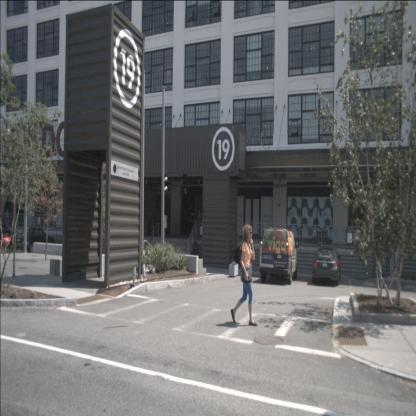human-pedestrian-adult: (230, 224, 258, 326), (164, 209, 169, 238)
vehicle-car: (260, 227, 298, 284), (312, 246, 341, 285), (17, 227, 53, 252), (0, 223, 18, 251)
